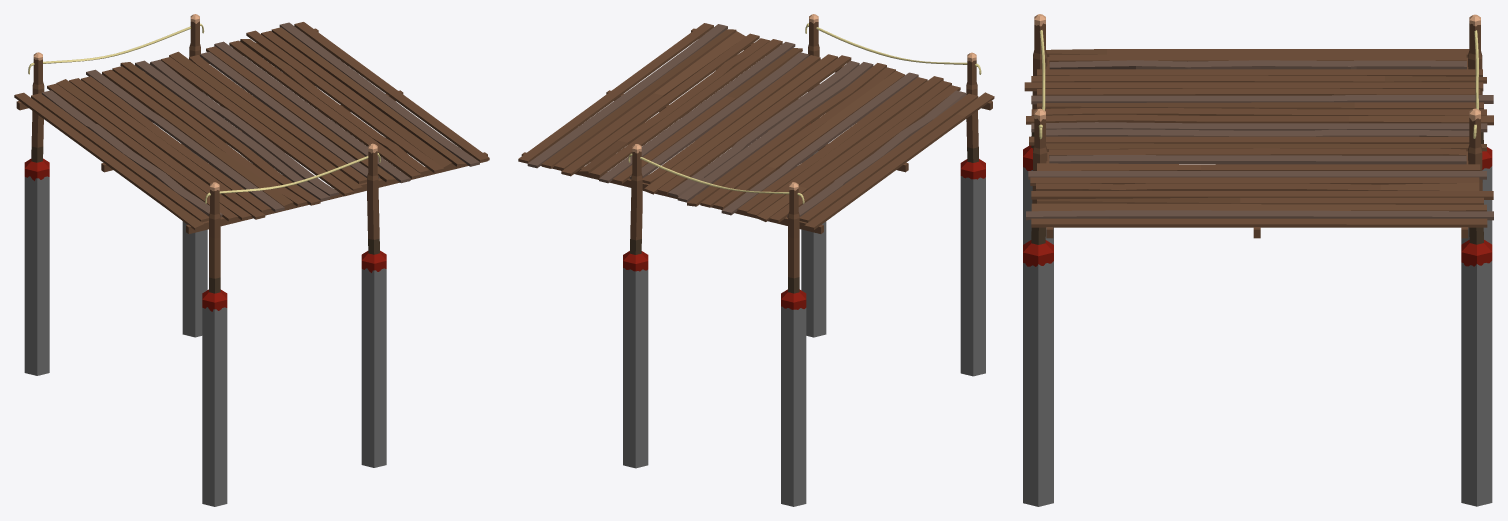
Rendered from Dock.fbx.
The picture shows the model from 3 angles, left to right: view 1: azimuth 30°, elevation 25°; view 2: azimuth 150°, elevation 25°; view 3: azimuth 270°, elevation 25°; orthographic projection. The views are drawn at different scales.
Parts seen in each view (by area): view 1: Cube, Cylinder, Cube.001; view 2: Cube, Cylinder, Cube.001; view 3: Cube, Cylinder, Cube.001.
Boxes of the visible parts, x1,y1,x2,y2 form: Cube: (14,14,489,293); Cylinder: (24,151,386,506); Cube.001: (28,23,380,203); Cube: (518,14,994,293); Cylinder: (623,151,985,506); Cube.001: (628,23,981,203); Cube: (1024,14,1493,244); Cylinder: (1023,145,1492,506); Cube.001: (1038,30,1478,139).
Bounding box in the file's own units: 191 × 194 × 212.
